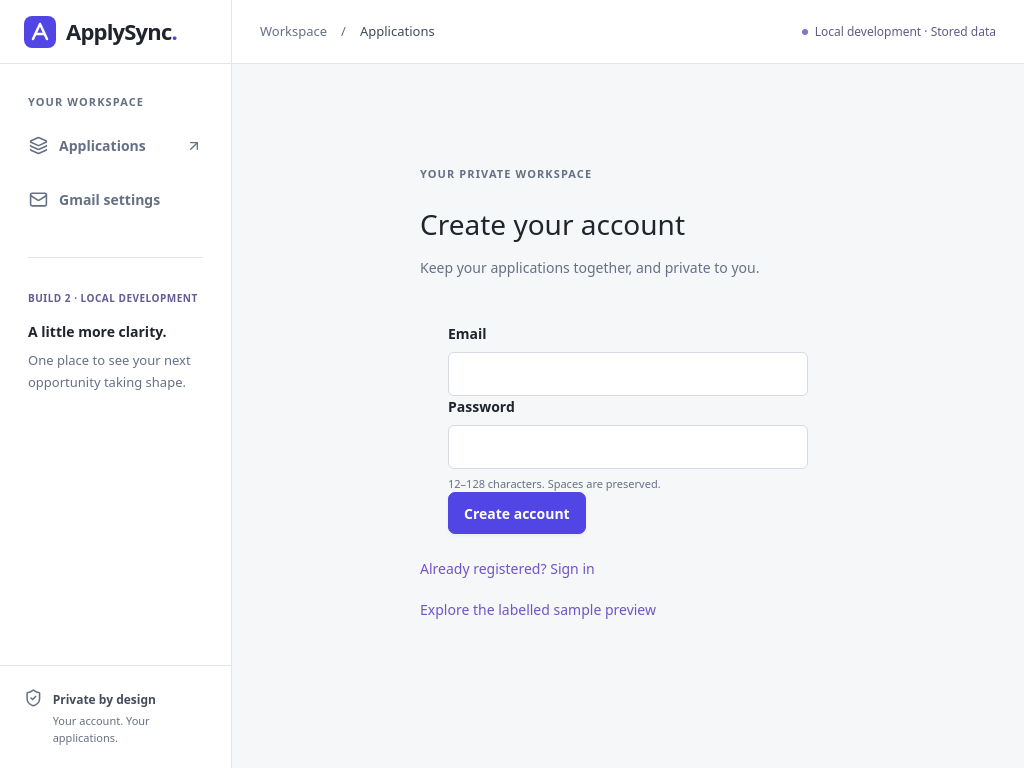
it: uses credentialed writes with CSRF protection and prevents duplicate auth submission
Type "synthetic@example.com" into the field labelled "Email" at [628, 374], box [448,352,808,396]
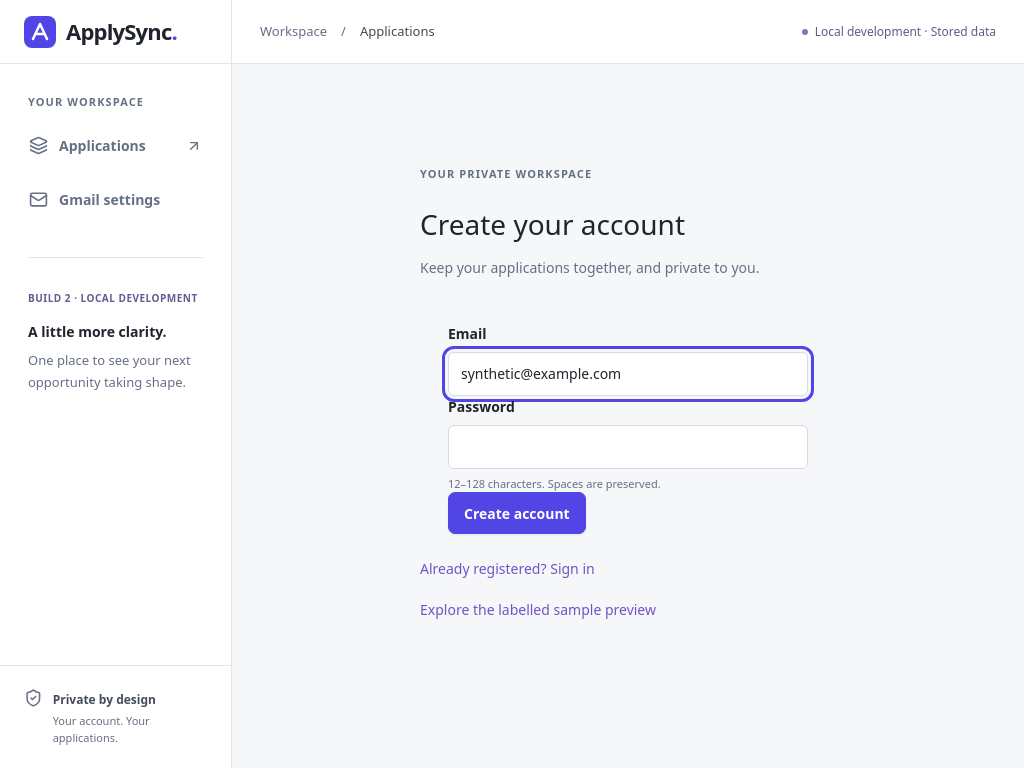
Type "synthetic-password-only" into the password field labelled "Password" at [628, 447], box [448,425,808,469]
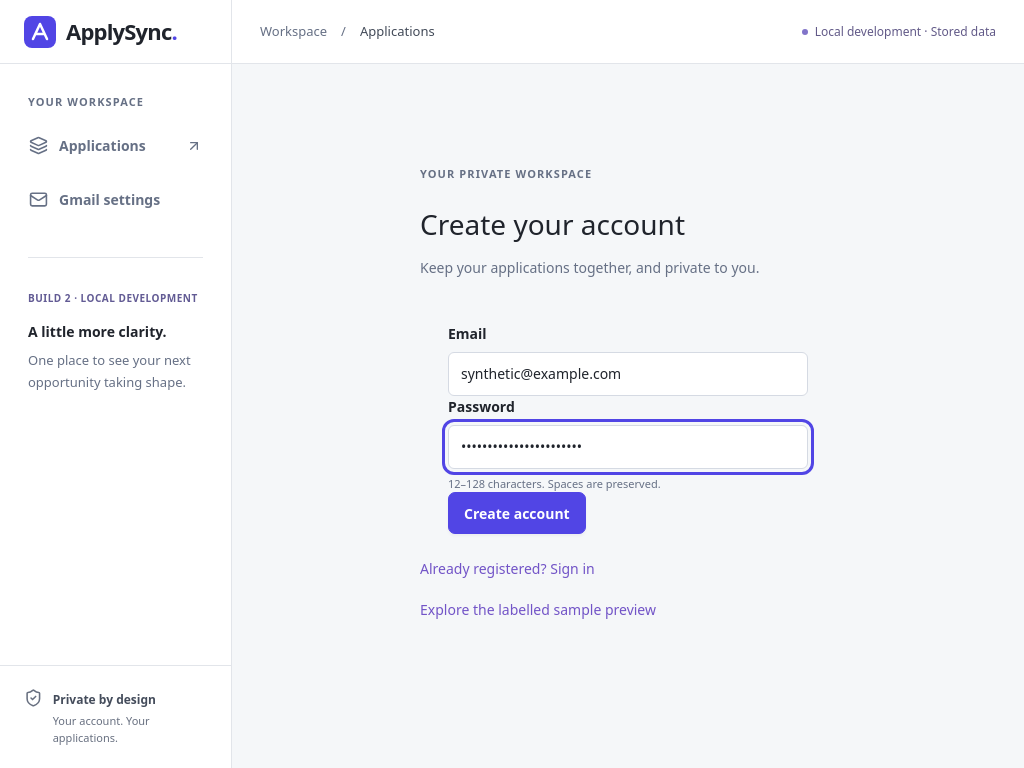
Click the button "Create account" at [517, 513], box [448,492,586,534]
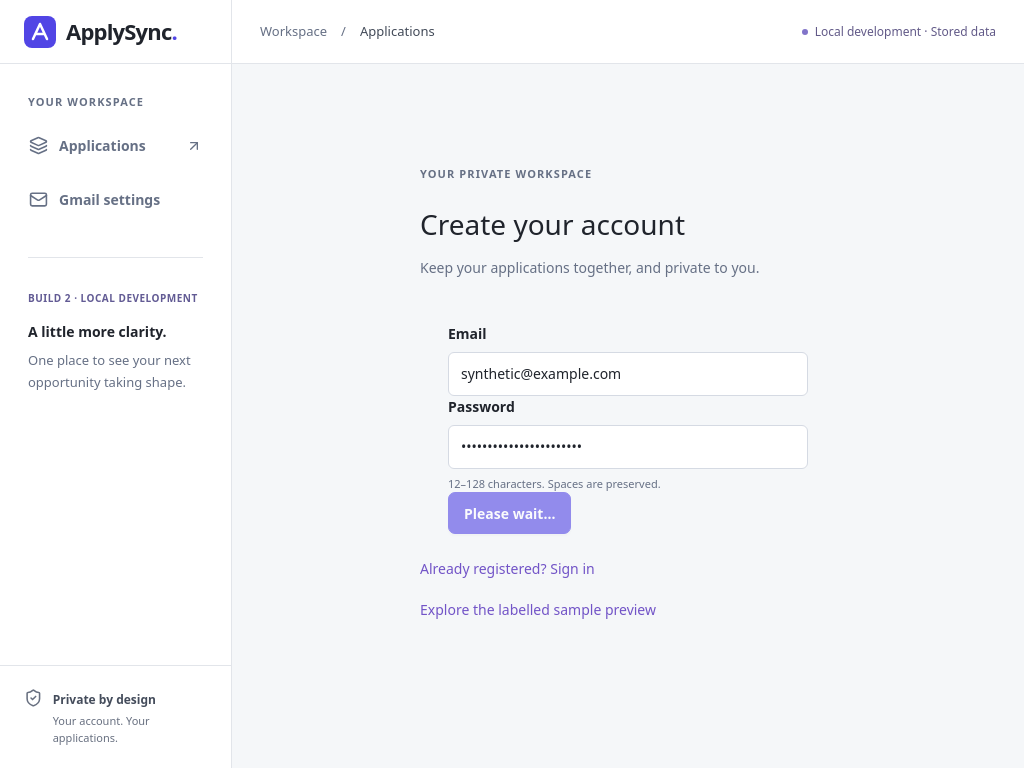
Expected: the button "Please wait…" is disabled, [448,492,571,534]
Press Enter
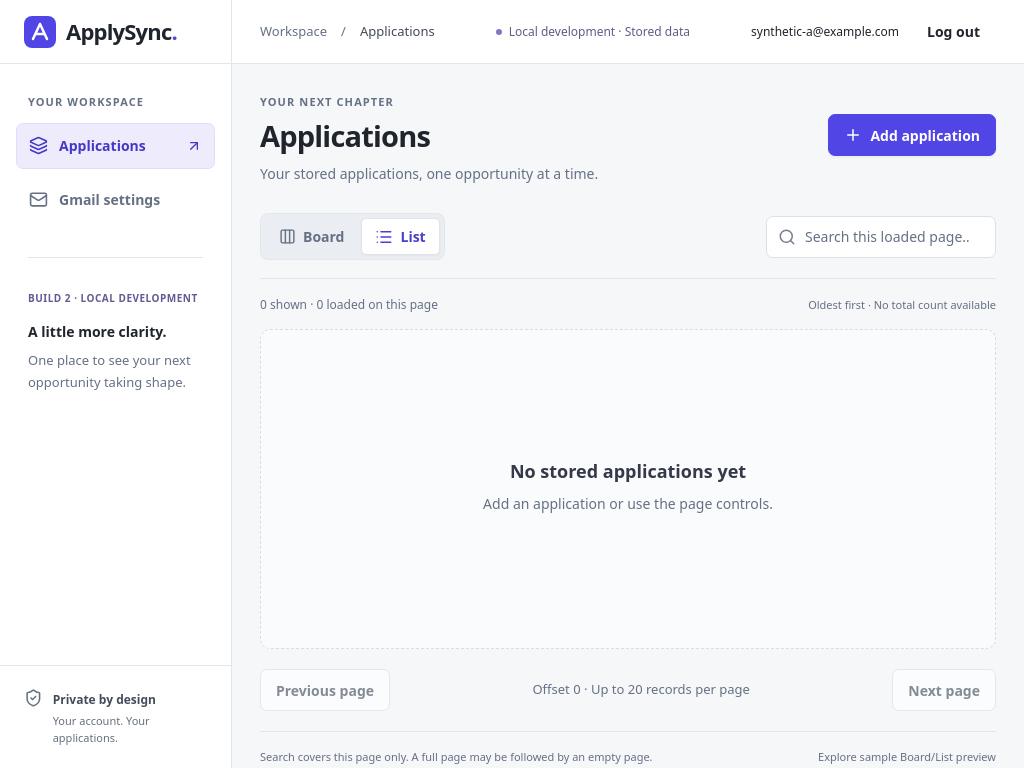
Expected: the heading "No stored applications yet" is shown, [510,458,746,485]
